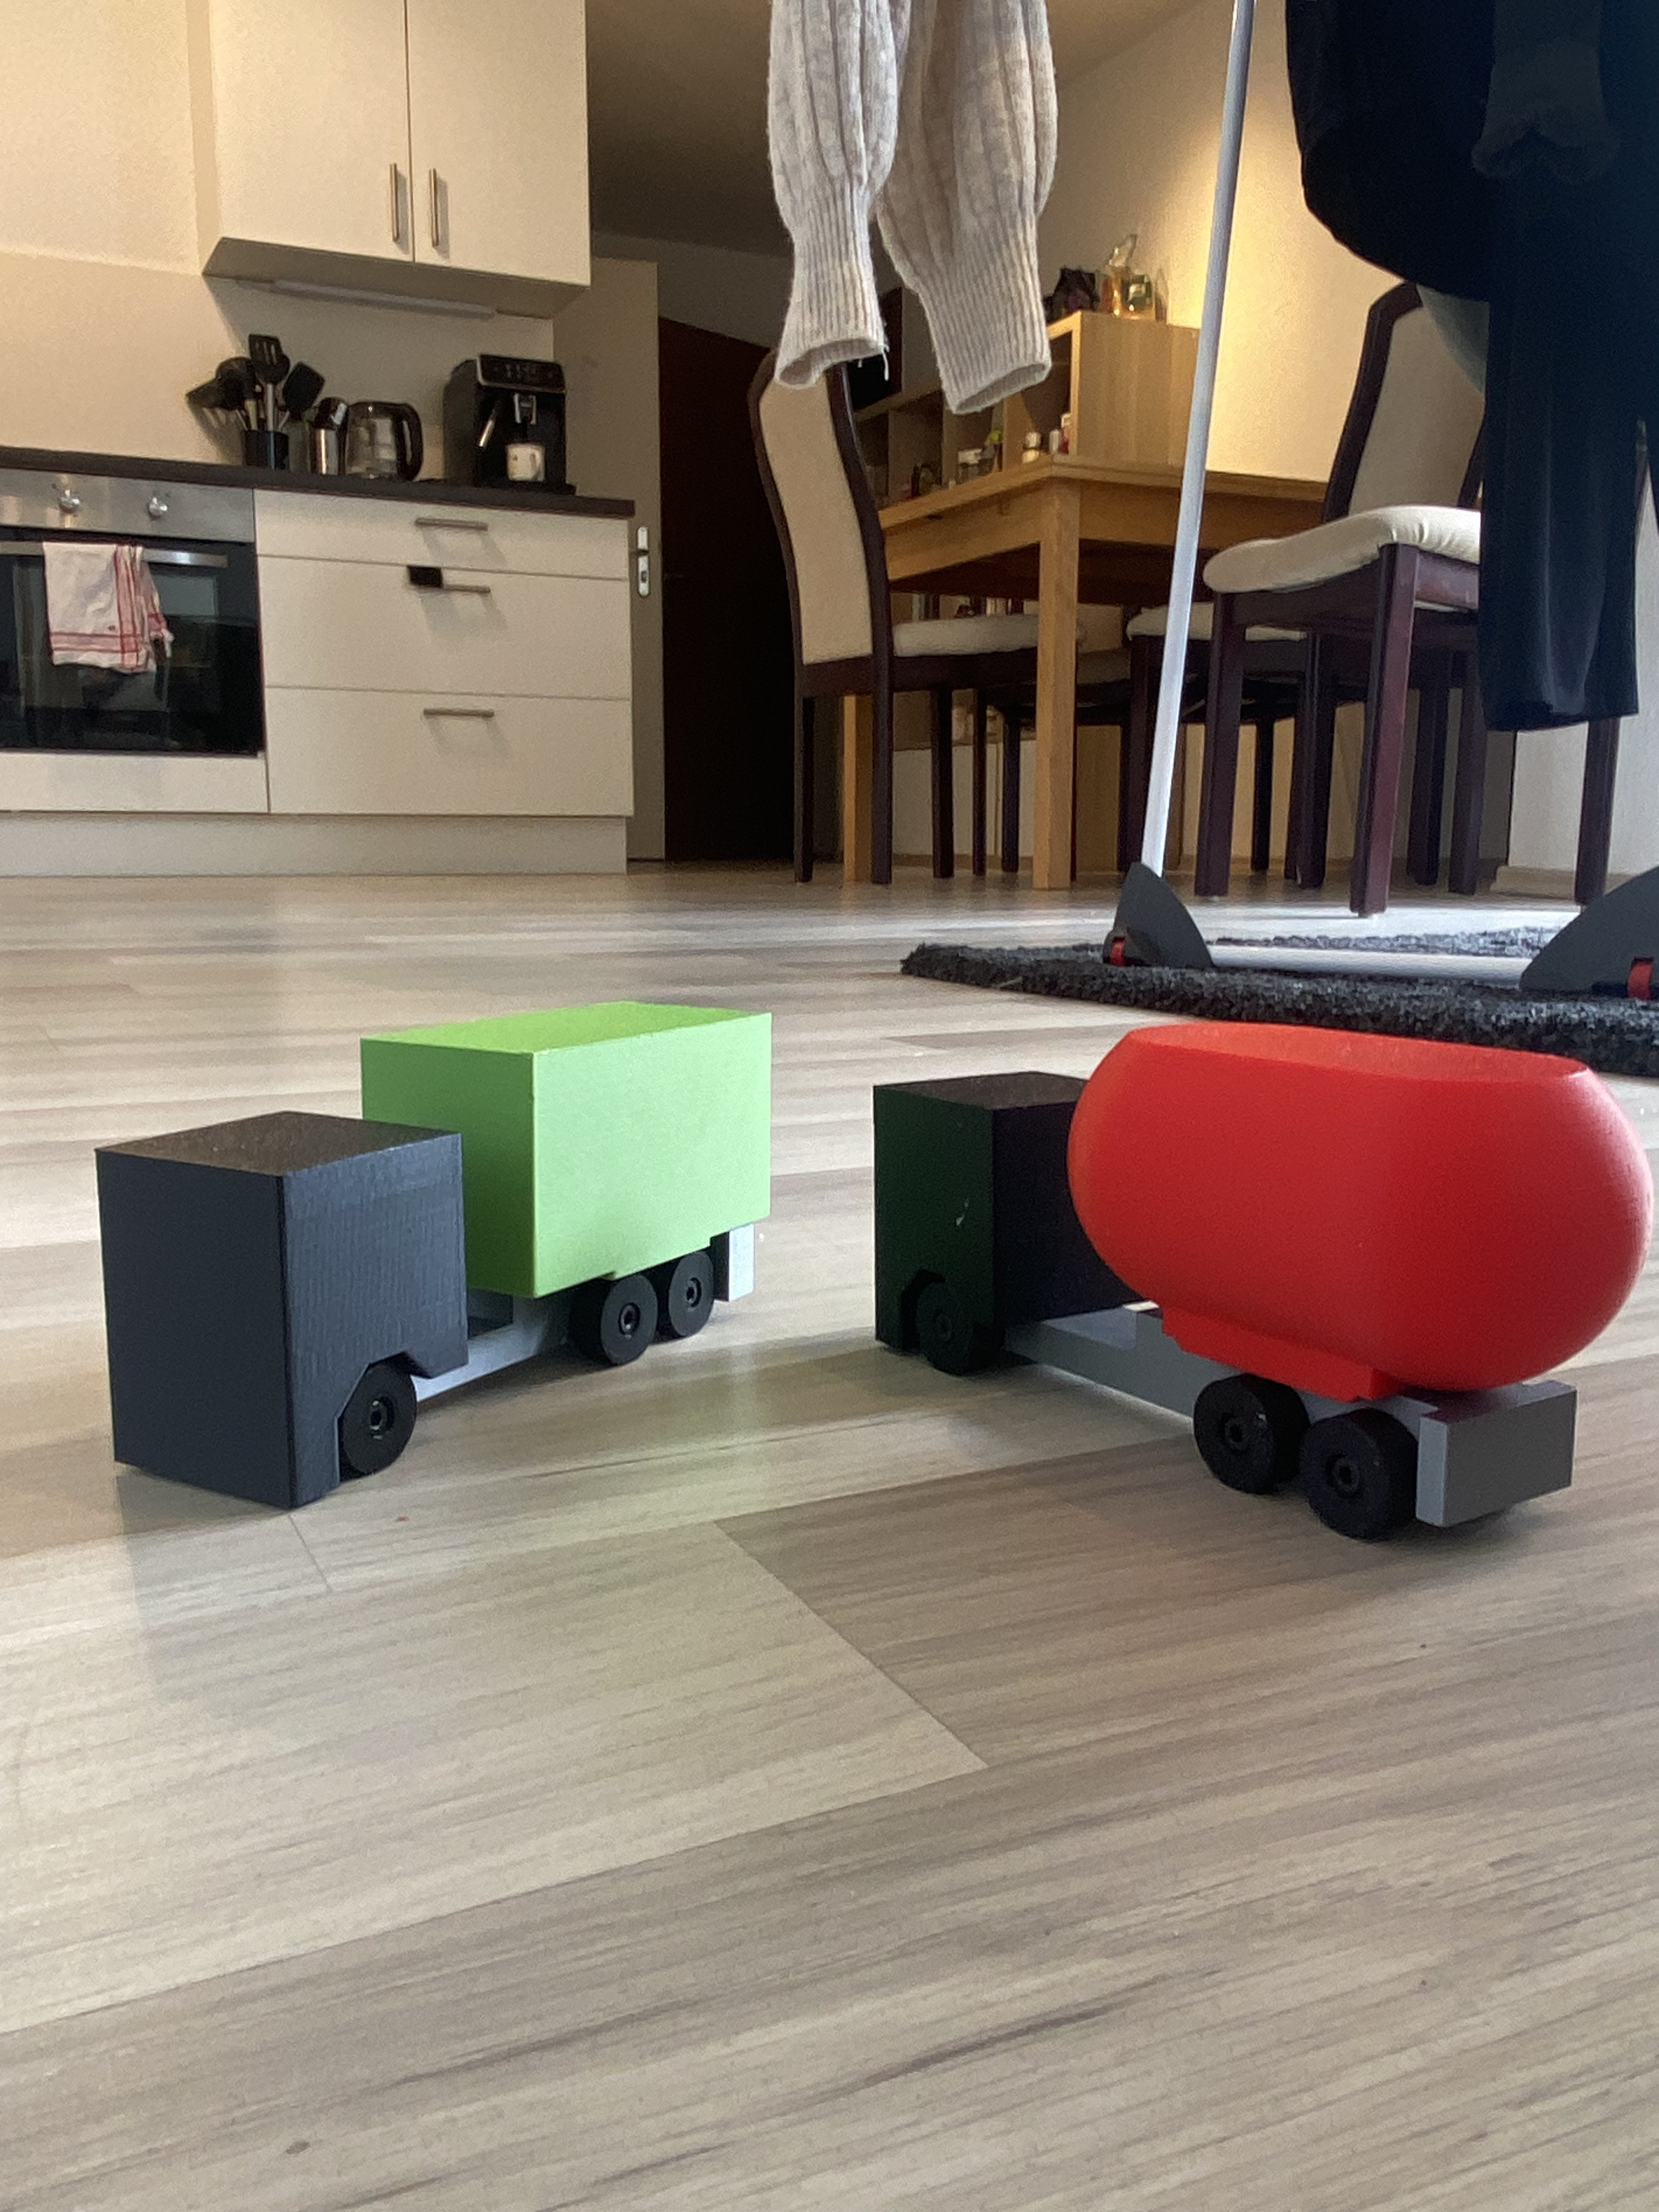green_truck: (164, 902, 678, 1613)
red_truck: (1009, 885, 1506, 1688)
